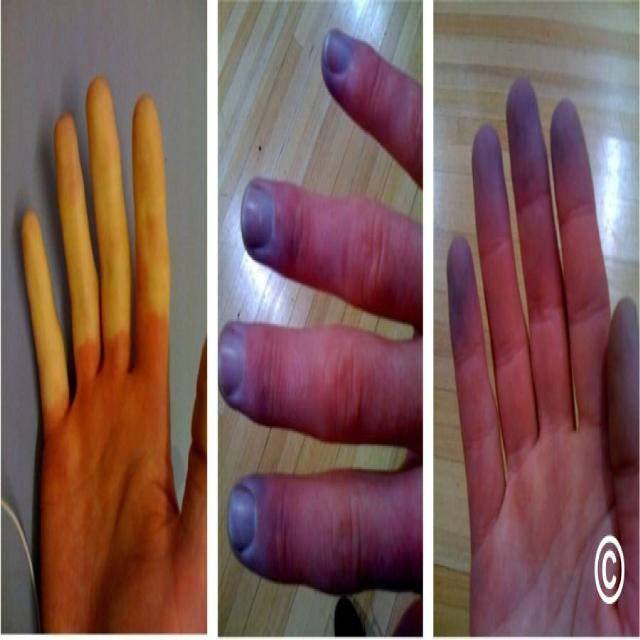raynauds: (215, 18, 368, 580), (18, 81, 175, 416), (443, 80, 610, 374)
